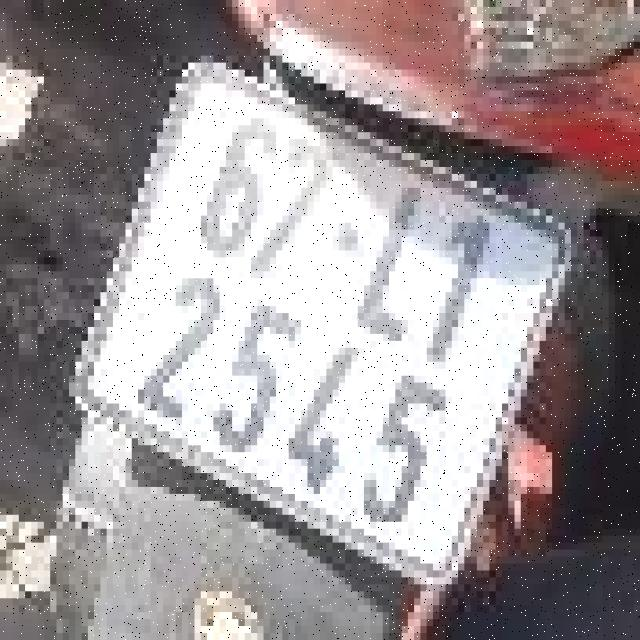1: (406, 198, 510, 381)
2: (129, 256, 246, 434)
4: (265, 326, 385, 507)
5: (197, 289, 316, 469), (344, 362, 459, 536)
6: (185, 101, 291, 269)
7: (243, 114, 360, 295)
L: (345, 170, 461, 355)
